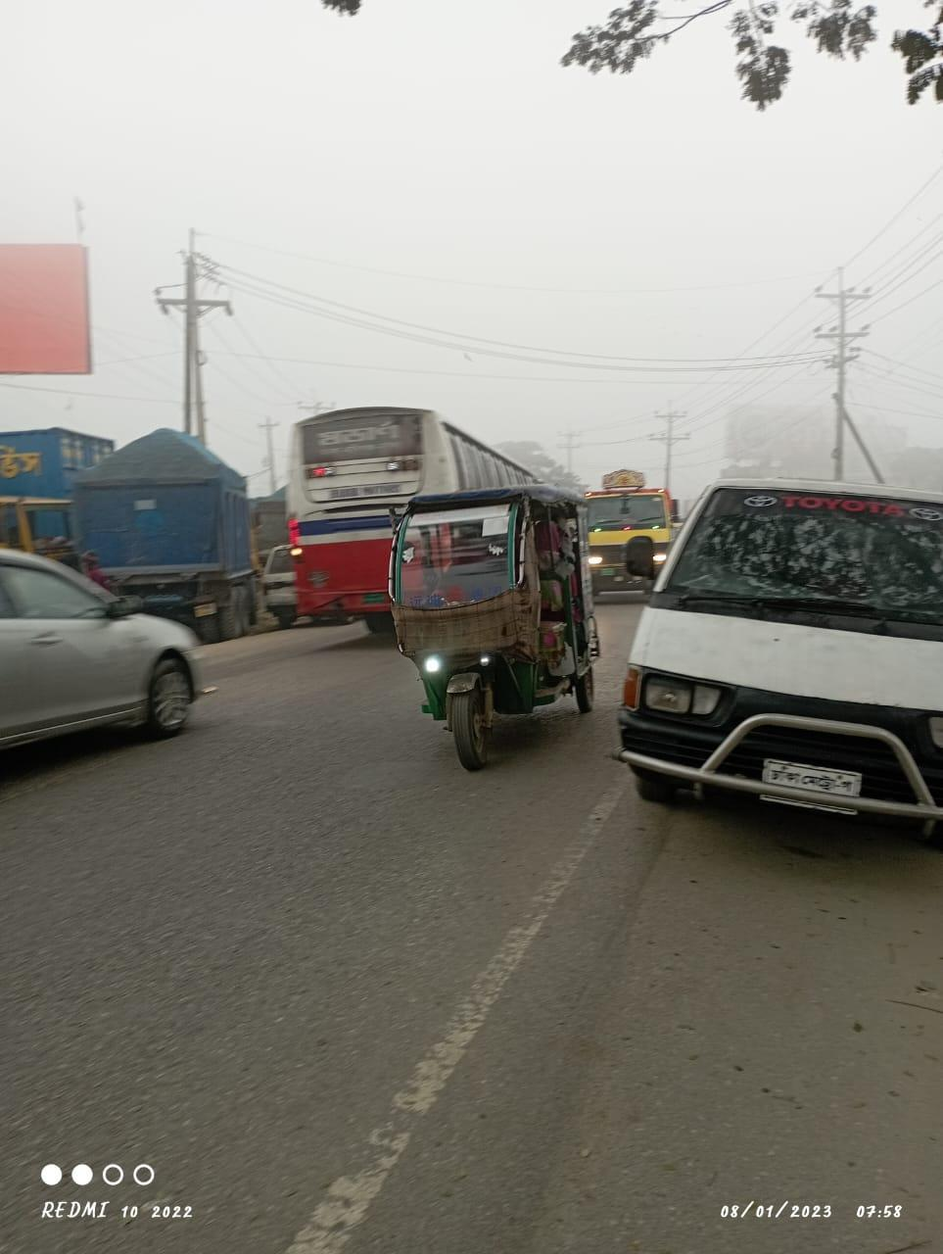Bus: (282, 405, 448, 620)
Car: (629, 469, 943, 878), (386, 478, 604, 755), (5, 542, 209, 741)
Truck: (75, 434, 253, 642), (589, 479, 676, 599)
